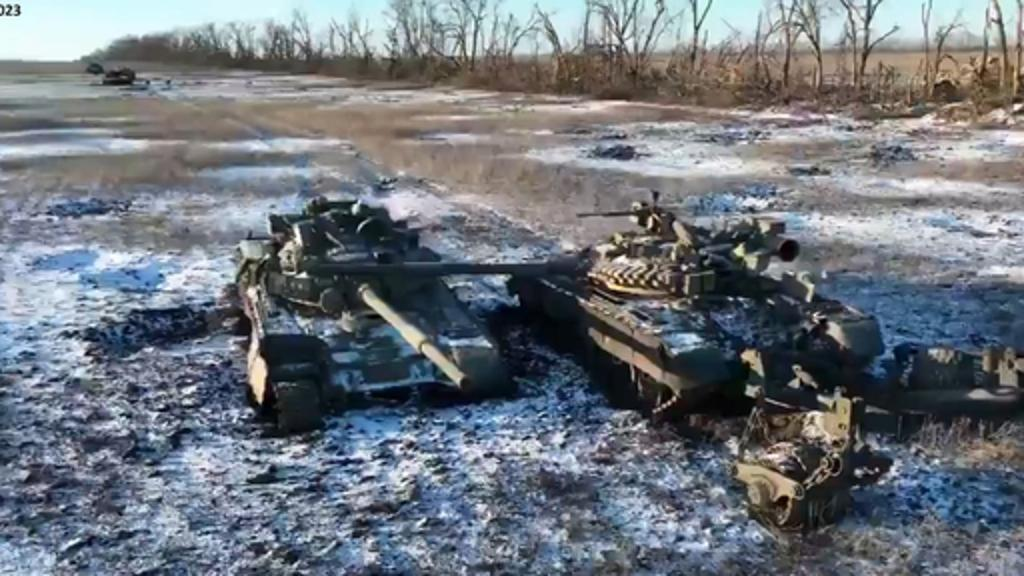APC-IFV: (98, 64, 138, 84), (82, 58, 104, 74)
TANK: (300, 196, 896, 444), (214, 182, 510, 426)
